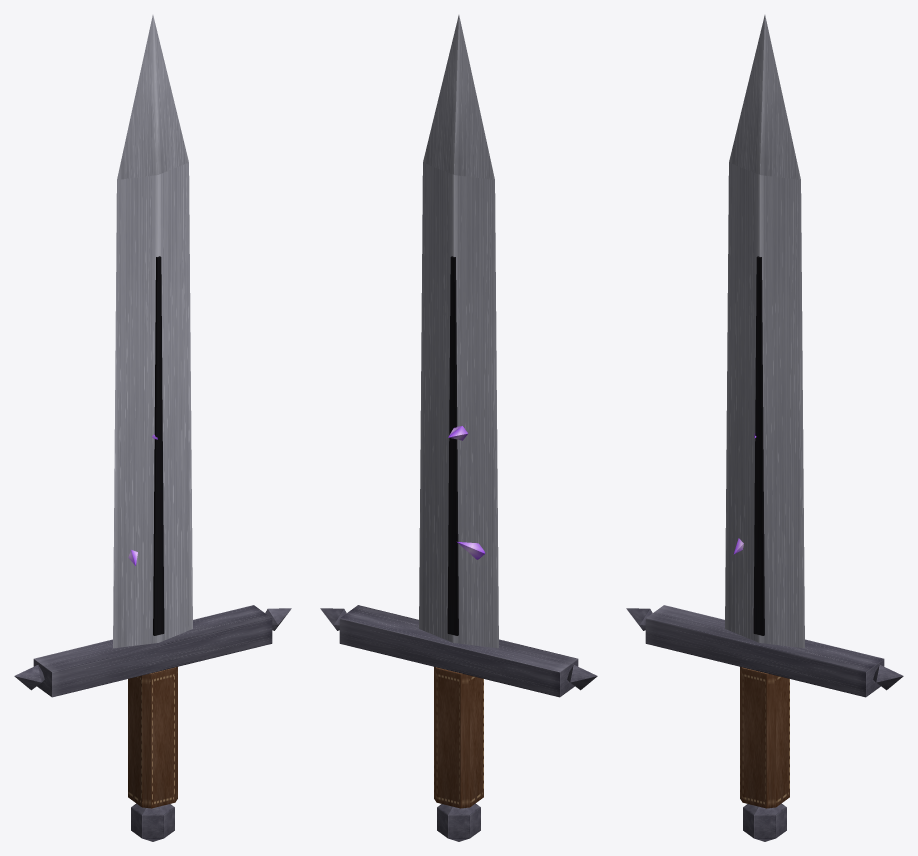
File: MidSword.fbx
3 renders of one model, left to right at view 1: azimuth 30°, elevation 25°; view 2: azimuth 150°, elevation 25°; view 3: azimuth 330°, elevation 25°, orthographic.
Visible parts, largest first — view 1: Blade, Guard, Handle, Pommel; view 2: Blade, Guard, Handle, Pommel; view 3: Blade, Guard, Handle, Pommel.
Part boxes in pixels (<box>): Blade: <box>113,15,192,648</box>; Guard: <box>14,605,291,697</box>; Handle: <box>128,667,177,808</box>; Pommel: <box>131,803,174,841</box>; Blade: <box>419,15,498,648</box>; Guard: <box>320,605,597,697</box>; Handle: <box>434,667,483,808</box>; Pommel: <box>437,803,480,841</box>; Blade: <box>725,15,804,648</box>; Guard: <box>626,605,903,697</box>; Handle: <box>740,667,789,808</box>; Pommel: <box>743,803,786,841</box>.
Size of the model in its own units: 139 by 395 by 27.84.
2 materials, 2 textured.
